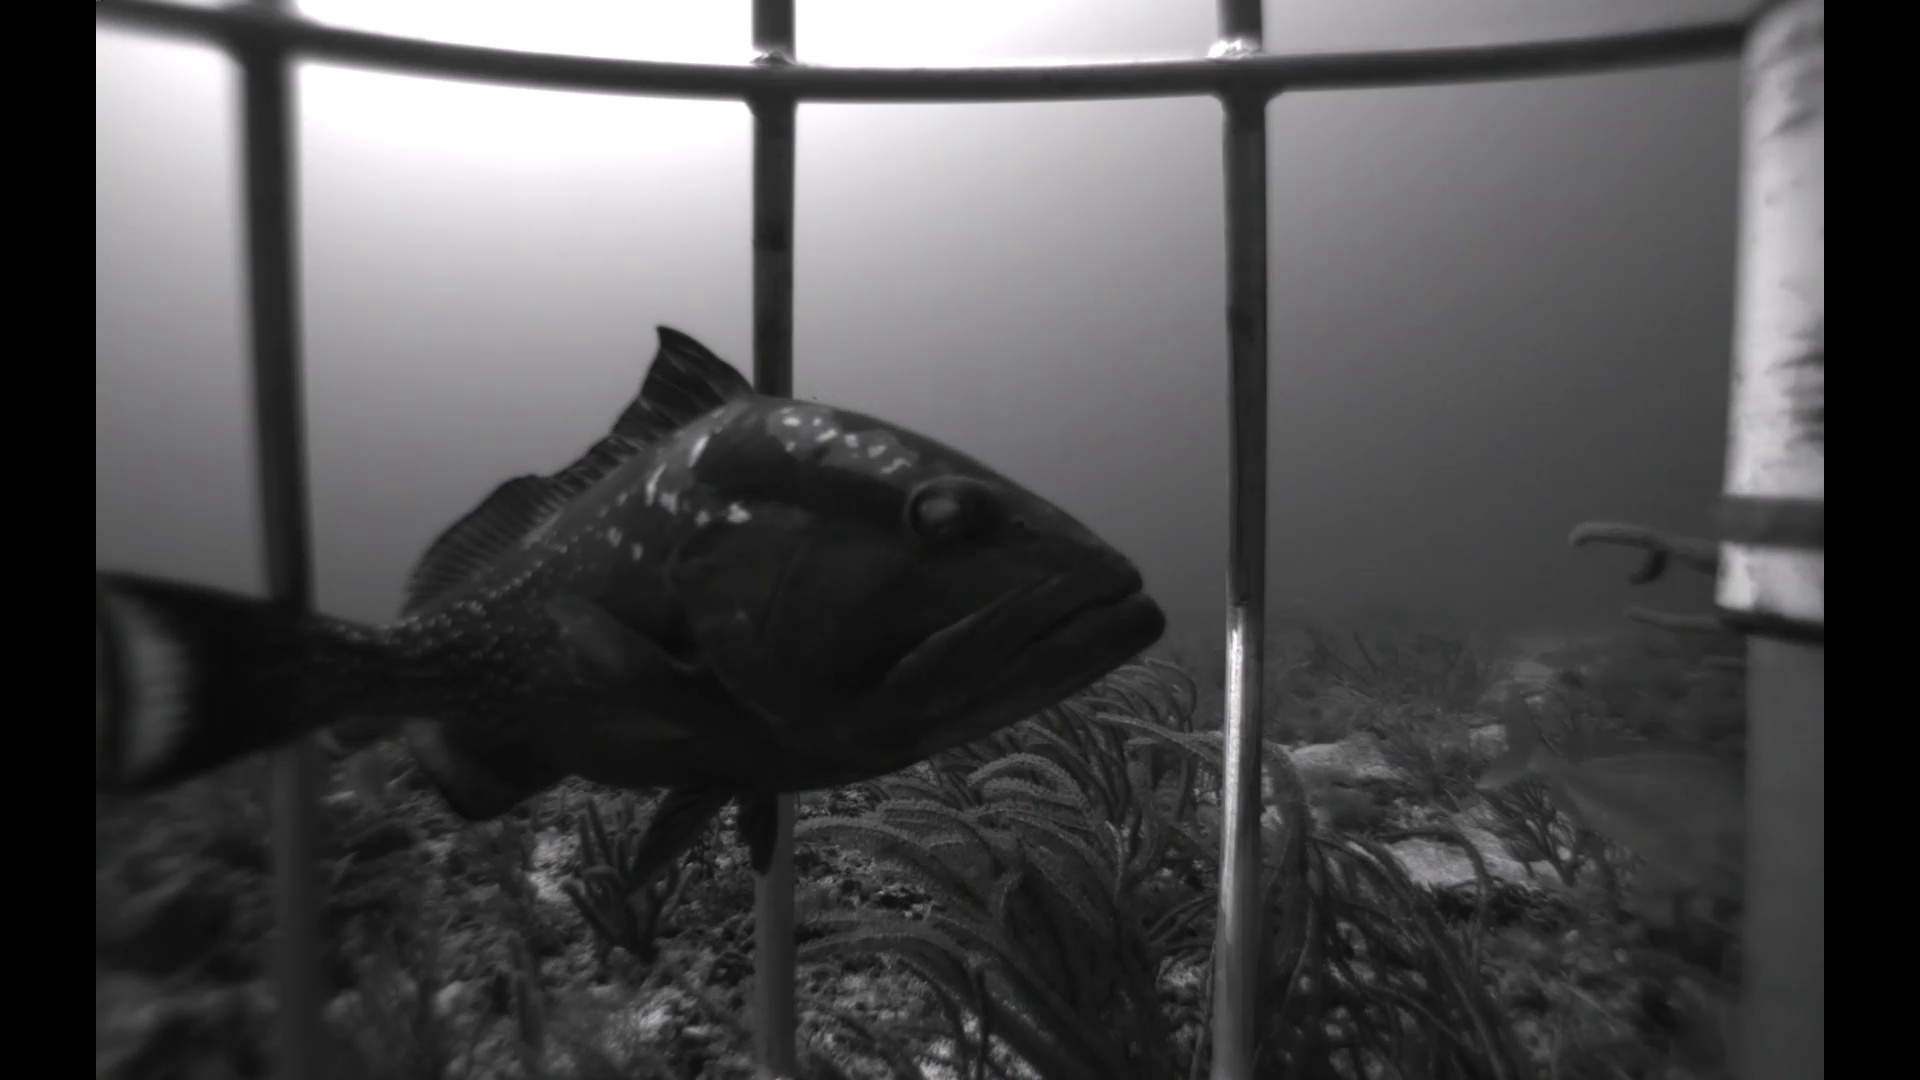CALAMUSNODOSUS-170210608: (1452, 687, 1754, 913), (309, 741, 433, 831)
EPINEPHELUSMORIO-170021211: (111, 315, 1164, 903), (316, 691, 415, 777)
